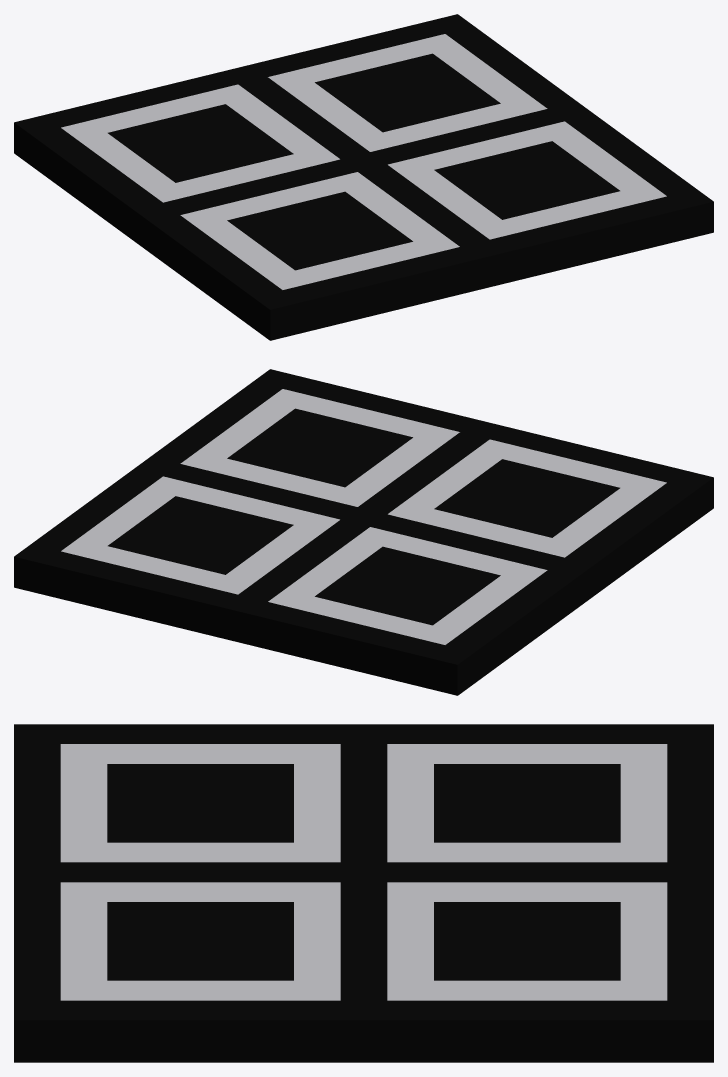
The model's file is dungeon_d_a_ground_c_a.obj.
The picture shows the model from 3 angles, top to bottom: view 1: azimuth 30°, elevation 25°; view 2: azimuth 150°, elevation 25°; view 3: azimuth 270°, elevation 25°; orthographic projection. The views are drawn at different scales.
Bounding box in the file's own units: 1.5 × 0.1 × 1.5.
1 material, 1 textured.
